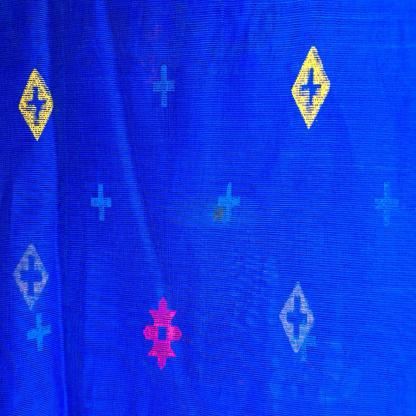spot: (211, 202, 226, 223)
